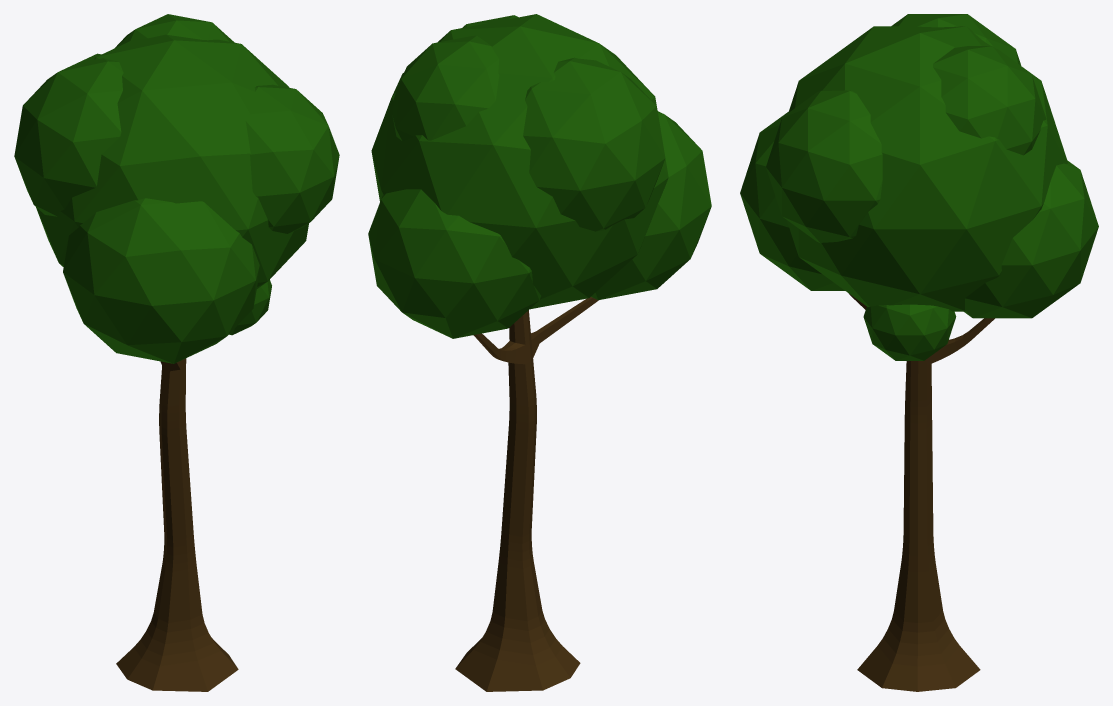
File: Low Poly Tree 1.fbx
The picture shows the model from 3 angles, left to right: view 1: azimuth 30°, elevation 25°; view 2: azimuth 150°, elevation 25°; view 3: azimuth 270°, elevation 25°; orthographic projection. The views are drawn at different scales.
Visible parts, largest first — view 1: Tree Full; view 2: Tree Full; view 3: Tree Full.
Part boxes in pixels (x1,y1,x2,y2): Tree Full: (14,14,339,691); Tree Full: (368,14,711,691); Tree Full: (740,14,1098,691).
Bounding box in the file's own units: 100 × 233 × 119.
